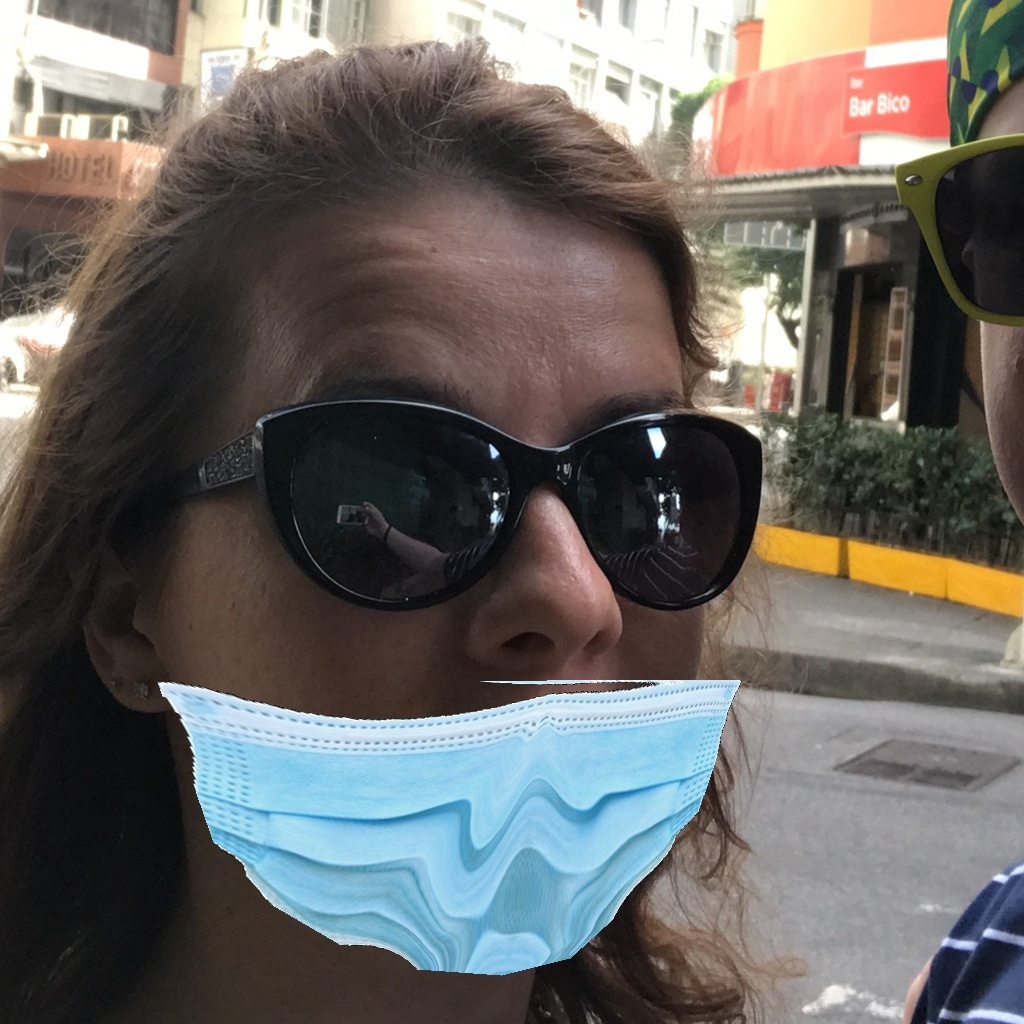mascarilla_mal_puesta: (59, 345, 734, 985)
